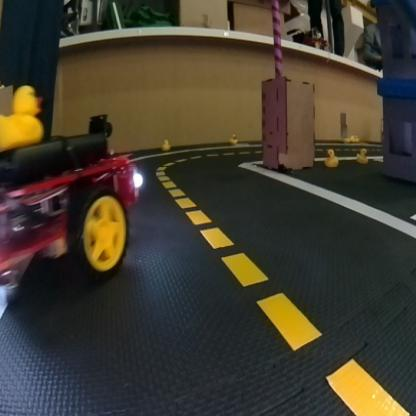duckie: (0, 82, 52, 154), (222, 127, 246, 153), (321, 140, 341, 170), (352, 142, 371, 171), (160, 133, 177, 149)
duckiebot: (0, 118, 155, 301)
